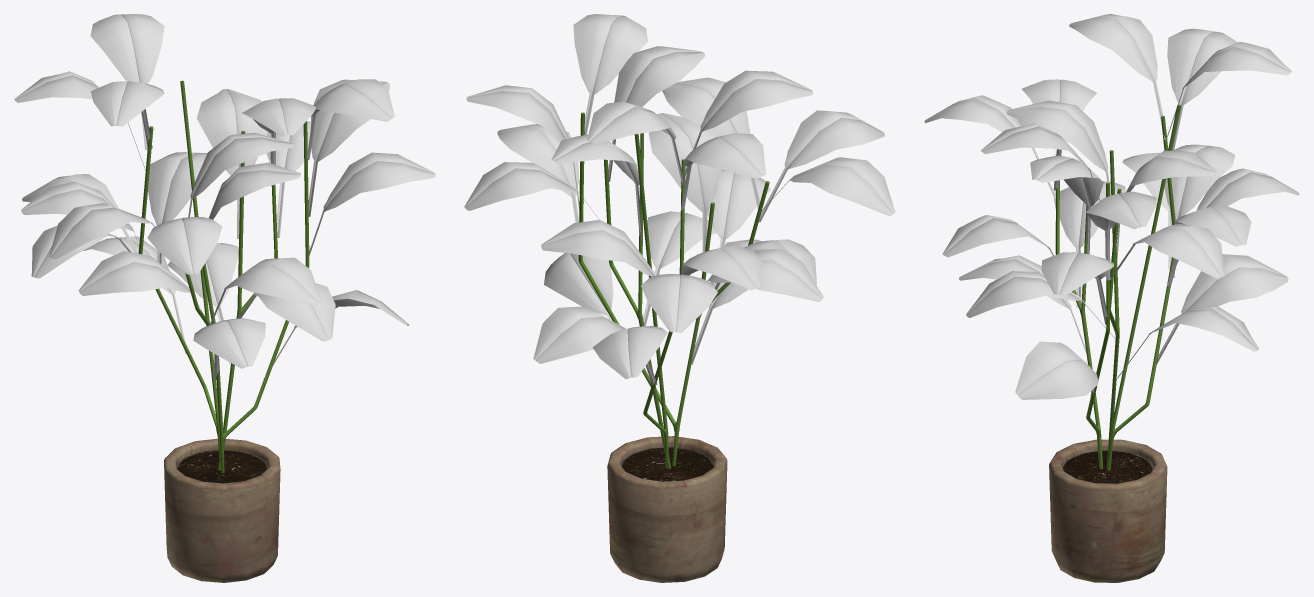
File: Plants_Pots_4.fbx
The picture shows the model from 3 angles, left to right: view 1: azimuth 30°, elevation 25°; view 2: azimuth 150°, elevation 25°; view 3: azimuth 270°, elevation 25°; orthographic projection.
Visible parts, largest first — view 1: Cylinder.019; view 2: Cylinder.019; view 3: Cylinder.019.
Part boxes in pixels (x1,y1,x2,y2): Cylinder.019: (14, 14, 435, 582); Cylinder.019: (464, 14, 895, 582); Cylinder.019: (924, 14, 1299, 582).
Bounding box in the file's own units: 188 × 235 × 158.
